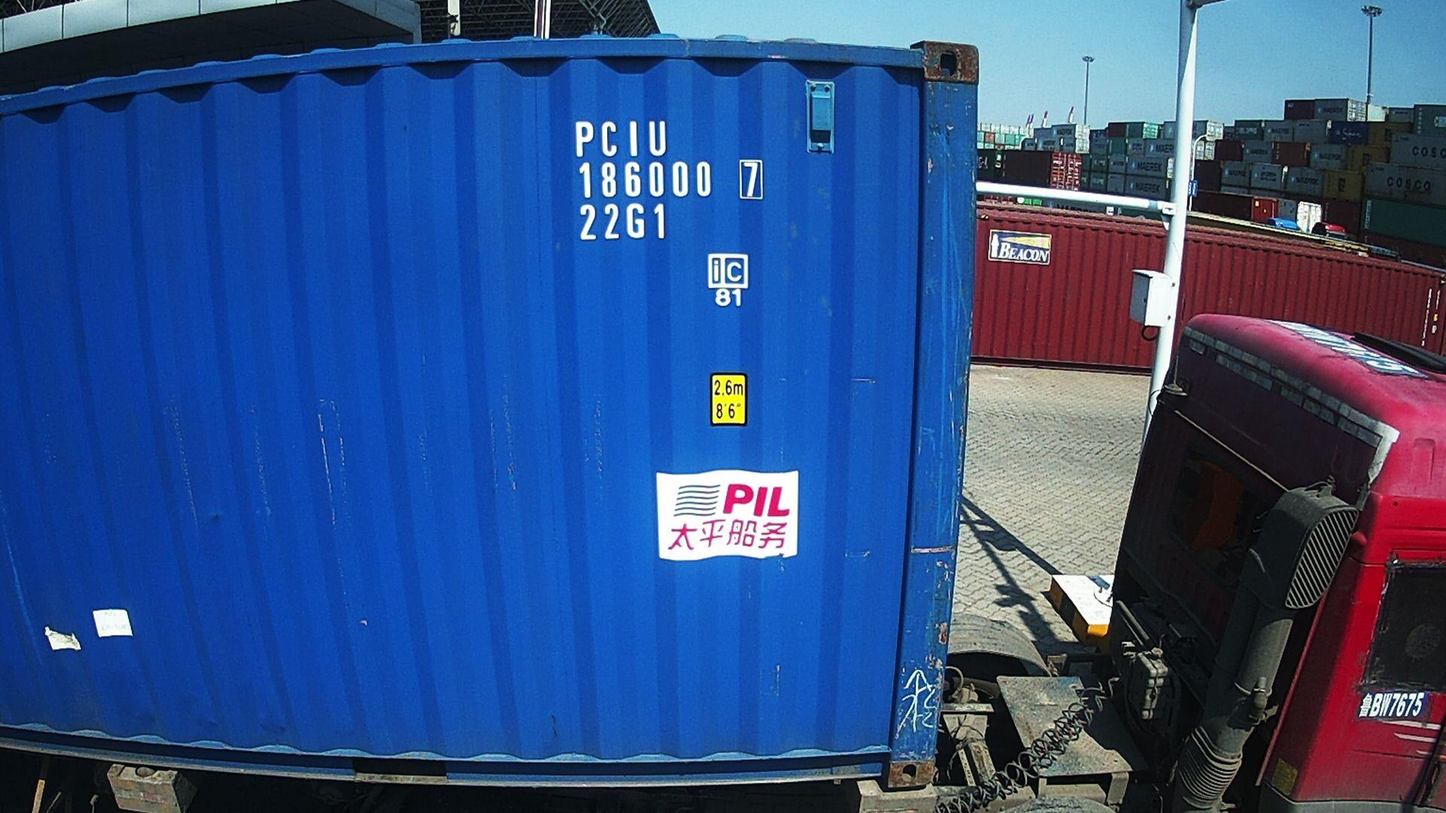container-numbers: (575, 158, 764, 202), (575, 202, 672, 245), (572, 117, 671, 159)
